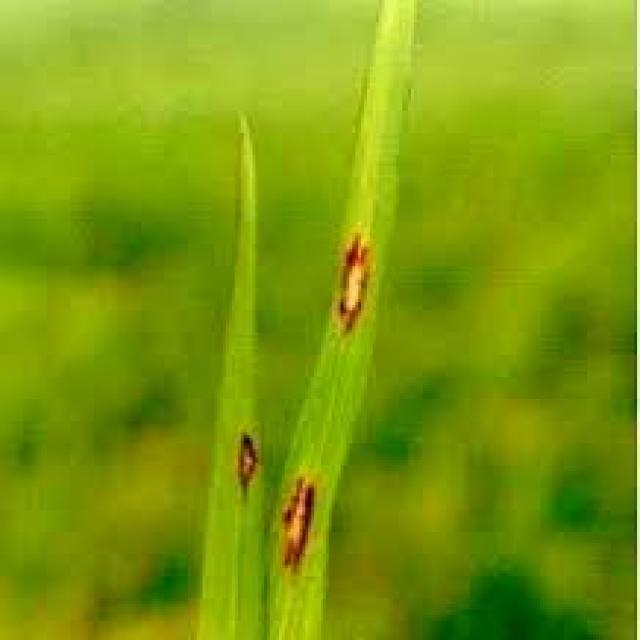Leaf_Blast: (258, 457, 346, 557), (326, 216, 364, 324), (223, 407, 267, 488)
